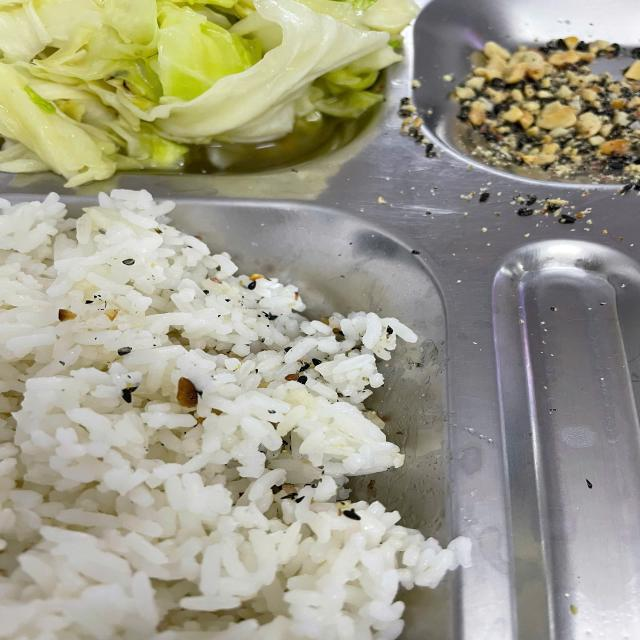salad: (0, 204, 456, 640)
san: (0, 0, 405, 163)
xucxichchien: (446, 31, 640, 180)
